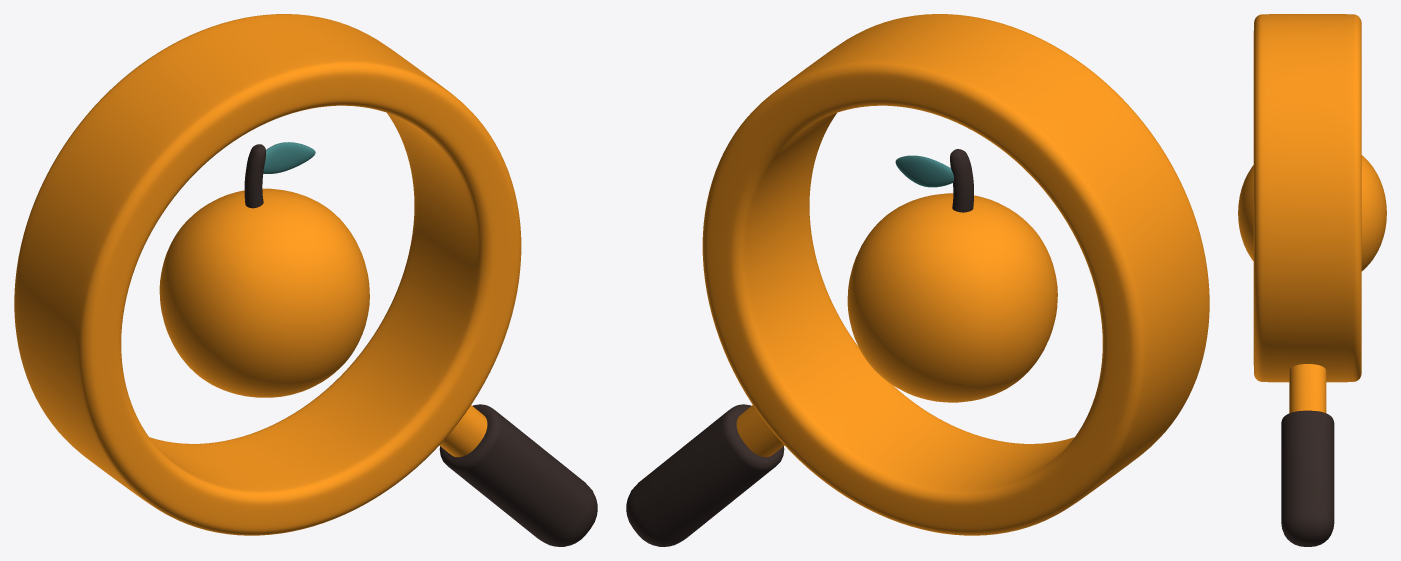
The model's file is searching-food-animated-3d-icon-15578343816.glb.
The picture shows the model from 3 angles, left to right: view 1: azimuth 30°, elevation 25°; view 2: azimuth 150°, elevation 25°; view 3: azimuth 270°, elevation 25°; orthographic projection. The views are drawn at different scales.
Parts seen in each view (by area): view 1: Frame.001, Fruit, Handle.001, Leaf, Stem; view 2: Frame.001, Fruit, Handle.001, Leaf, Stem; view 3: Frame.001, Handle.001, Fruit.
Part boxes in pixels (x1,y1,x2,y2): Frame.001: [14, 14, 521, 535]; Fruit: [159, 188, 369, 397]; Handle.001: [439, 404, 597, 546]; Leaf: [263, 142, 315, 173]; Stem: [244, 144, 265, 208]; Frame.001: [702, 14, 1209, 535]; Fruit: [847, 193, 1057, 402]; Handle.001: [626, 404, 784, 546]; Leaf: [895, 155, 953, 187]; Stem: [950, 149, 973, 212]; Frame.001: [1253, 14, 1361, 413]; Handle.001: [1281, 410, 1334, 546]; Fruit: [1238, 155, 1386, 271].
Size of what is drawn, in the model's own units: 1.92 by 1.92 by 0.6315.
